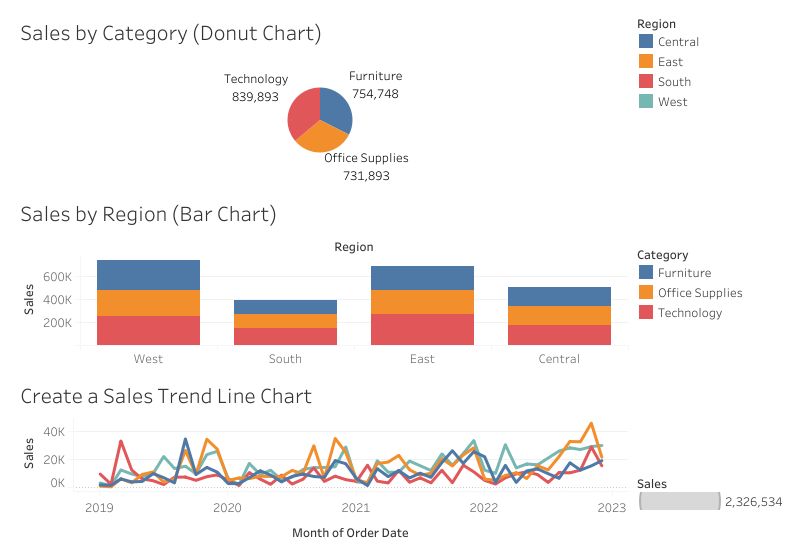

This screenshot's page, from the dashboard's own definition file:
{"tool":"tableau","page":{"name":"Dashboard 1","canvas":[1000,1000],"units":"permille","ordinal":0},"visuals":[{"type":"worksheet","title":" Sales by Category (Donut Chart)","mark":"Pie","box":[10,14.3,780,323.8]},{"type":"legend","title":" Create a Sales Trend Line Chart","param":"[federated.1swm0840snp3rd1e112k11ajt7e8].[none:Region:nk]","box":[790,14.3,200,412.5]},{"type":"worksheet","title":" Sales by Region (Bar Chart)","mark":"Automatic","rows":["Sales"],"cols":["Region"],"box":[10,338.1,780,323.8]},{"type":"legend","title":" Sales by Category (Donut Chart)","param":"[federated.1swm0840snp3rd1e112k11ajt7e8].[none:Category:nk]","box":[790,426.8,200,408.9]},{"type":"worksheet","title":" Create a Sales Trend Line Chart","mark":"Automatic","rows":["Sales"],"cols":["Order Date"],"box":[10,661.9,780,323.8]},{"type":"legend","title":" Sales by Category (Donut Chart)","param":"[federated.1swm0840snp3rd1e112k11ajt7e8].[sum:Sales:qk]","box":[790,835.7,200,82.2]}]}

Visuals, with their boxes on the dashboard's canvas, which has no fixed pixel size, in thousandths of its width and height (x1, y1, x2, y2). These are canvas units, not pixel positions in the 799x559 screenshot, which may show the page scaled, cropped or inside an application window:
" Sales by Category (Donut Chart)" worksheet (Pie marks): <region>10, 14, 790, 338</region>
" Create a Sales Trend Line Chart" legend: <region>790, 14, 990, 427</region>
" Sales by Region (Bar Chart)" worksheet: <region>10, 338, 790, 662</region>
" Sales by Category (Donut Chart)" legend: <region>790, 427, 990, 836</region>
" Create a Sales Trend Line Chart" worksheet: <region>10, 662, 790, 986</region>
" Sales by Category (Donut Chart)" legend: <region>790, 836, 990, 918</region>
